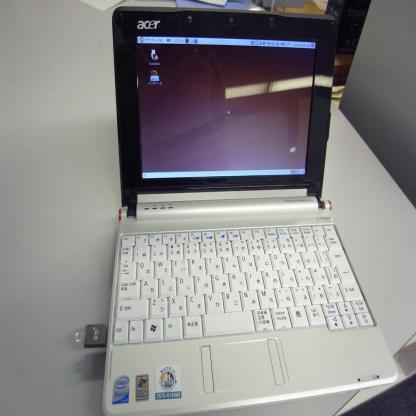board: (109, 3, 400, 415)
